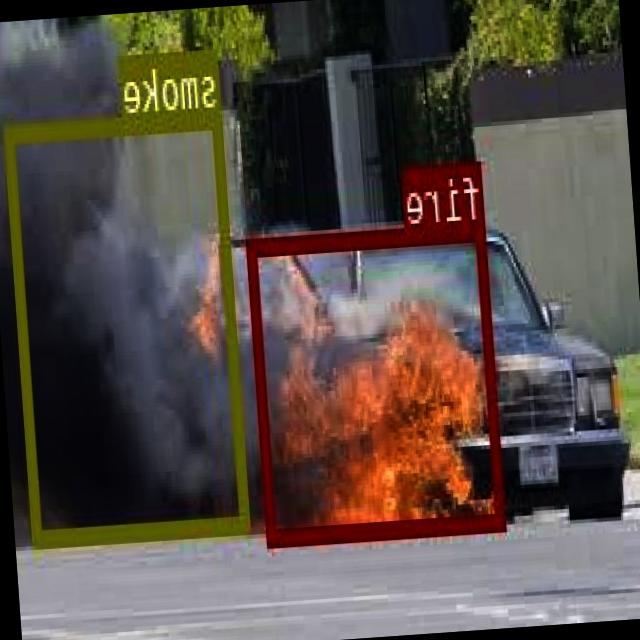fire: (249, 220, 508, 542)
smoke: (5, 110, 252, 544)
